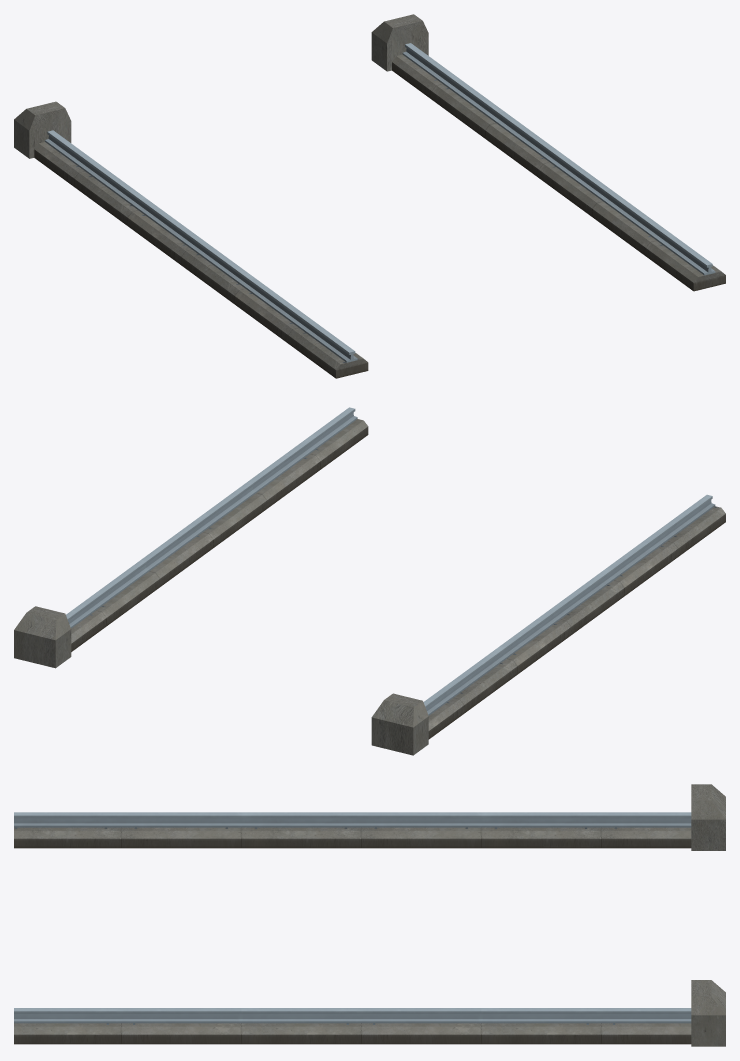
File: rails_end.fbx
The picture shows the model from 3 angles, top to bottom: view 1: azimuth 30°, elevation 25°; view 2: azimuth 150°, elevation 25°; view 3: azimuth 270°, elevation 25°; orthographic projection. The views are drawn at different scales.
Parts seen in each view (by area): view 1: rails_end; view 2: rails_end; view 3: rails_end.
Boxes of the visible parts, x1=… form: rails_end: x1=14, y1=14, x2=725, y2=378; rails_end: x1=14, y1=407, x2=725, y2=755; rails_end: x1=14, y1=784, x2=725, y2=1046.
Size of the model in its own units: 745 by 75 by 1025.
